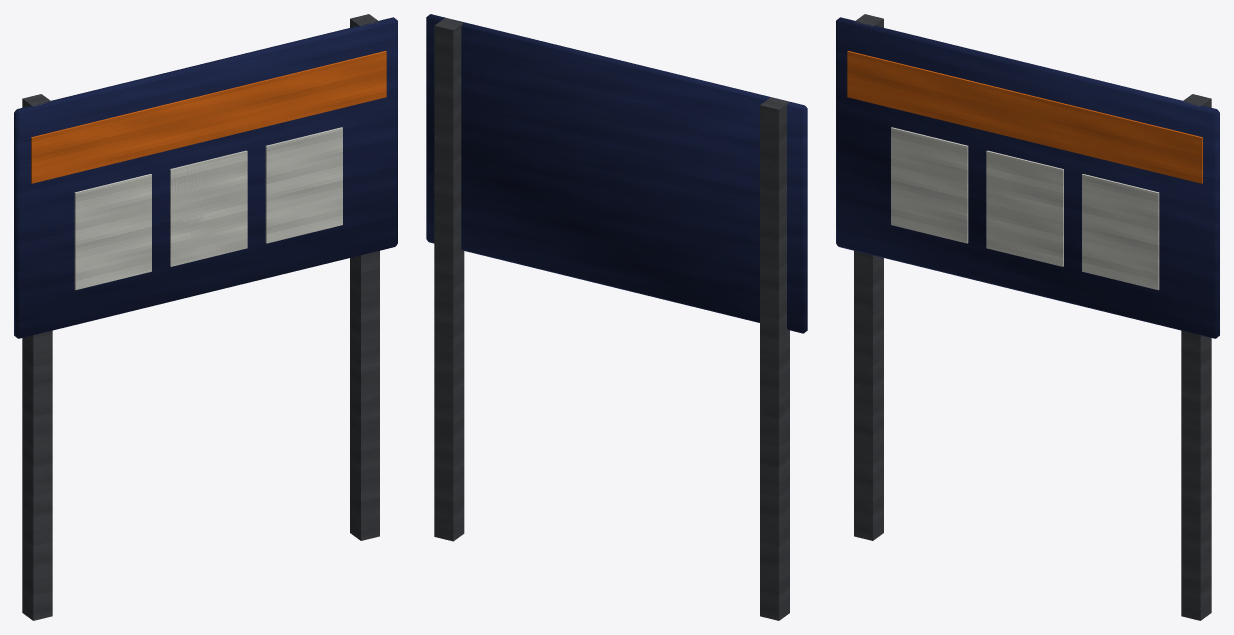
File: placa_parque.glb
3 renders of one model, left to right at view 1: azimuth 30°, elevation 25°; view 2: azimuth 150°, elevation 25°; view 3: azimuth 330°, elevation 25°, orthographic.
Visible parts, largest first — view 1: Inteiro, Peca_03; view 2: Inteiro, Peca_01; view 3: Inteiro, Peca_03, Peca_00.
Boxes of the visible parts, bbox=[...] form: Inteiro: bbox=[14, 14, 397, 620]; Peca_03: bbox=[170, 151, 247, 258]; Inteiro: bbox=[426, 14, 807, 620]; Peca_01: bbox=[439, 18, 464, 539]; Inteiro: bbox=[836, 14, 1219, 620]; Peca_03: bbox=[986, 162, 1053, 263]; Peca_00: bbox=[854, 15, 881, 504].
Bounding box in the file's own units: 1.4 × 1.8 × 0.086.
Materials: 1 (1 with a texture image).
